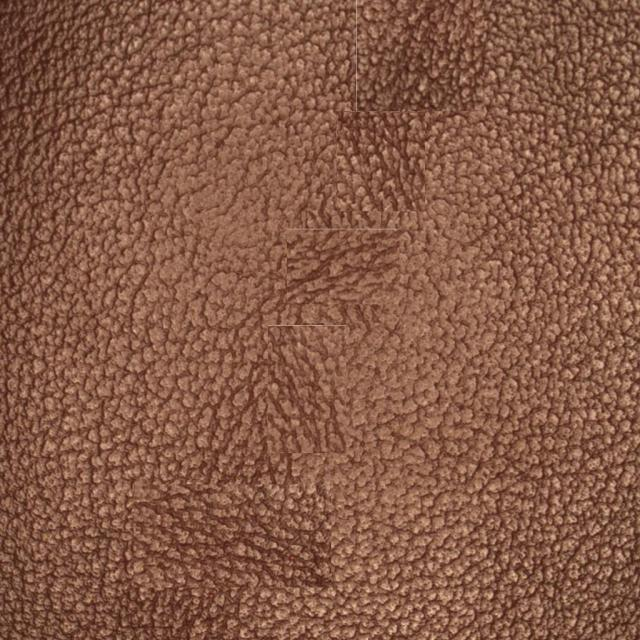Healed Injury: (304, 21, 481, 190), (260, 206, 450, 342)
